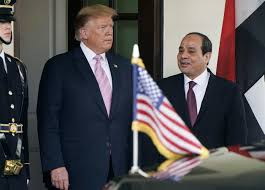middle_eastern_male: (175, 33, 217, 80)
